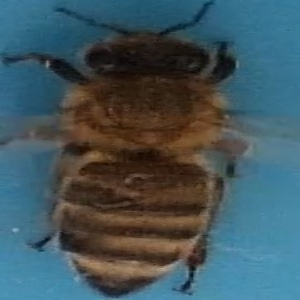bee: (2, 6, 283, 294)
